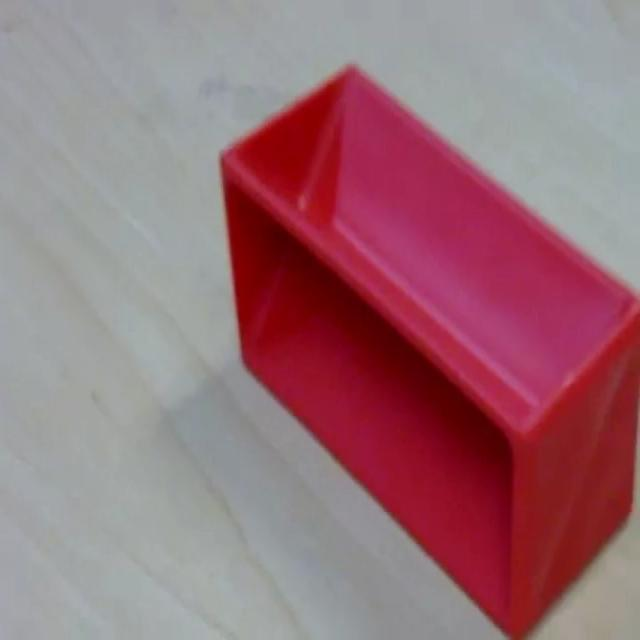red_block: (218, 61, 638, 636)
